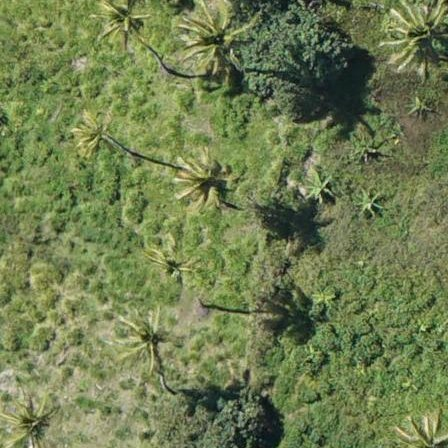palm_tree: (110, 301, 182, 371), (185, 1, 252, 71), (387, 1, 448, 76), (172, 149, 235, 213), (1, 395, 62, 448), (74, 111, 123, 162), (145, 245, 198, 287), (99, 1, 149, 43)
